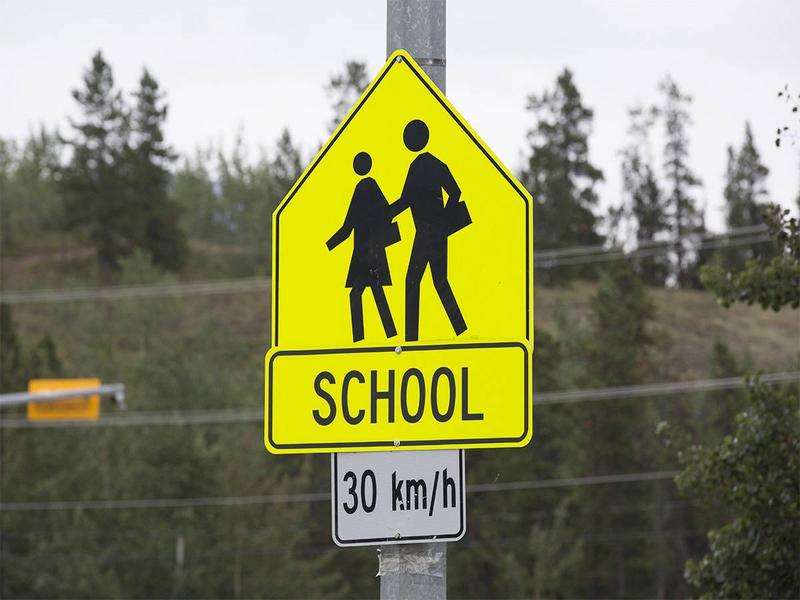slow: (255, 45, 541, 352)
